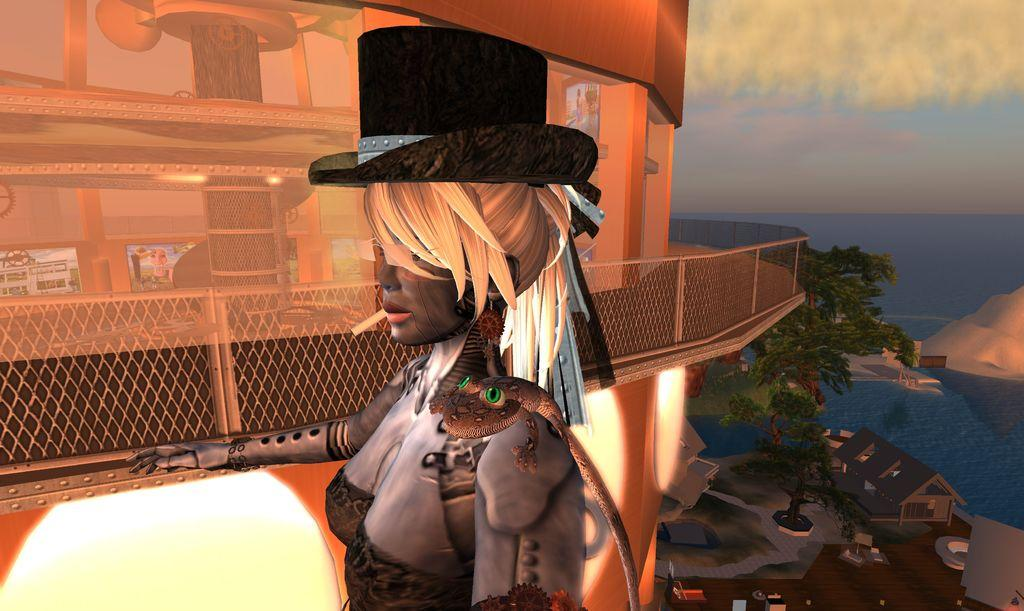Hat: (306, 23, 598, 186)
